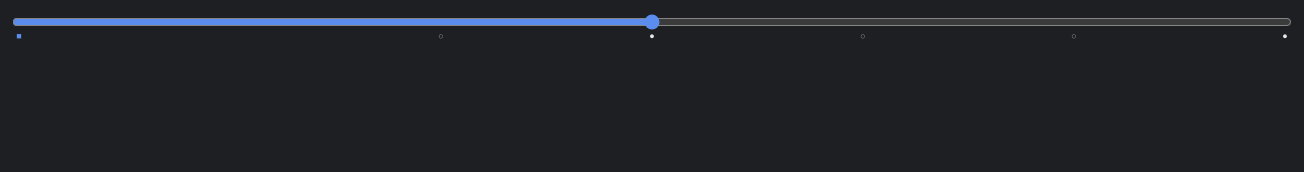
Scenario: KeySlider の印 › 差がない既定値キーは削除も移動もできない（I-072）
Right-click the 1st button "●" at [652, 36], box x1=647 y1=30 x2=657 y2=42
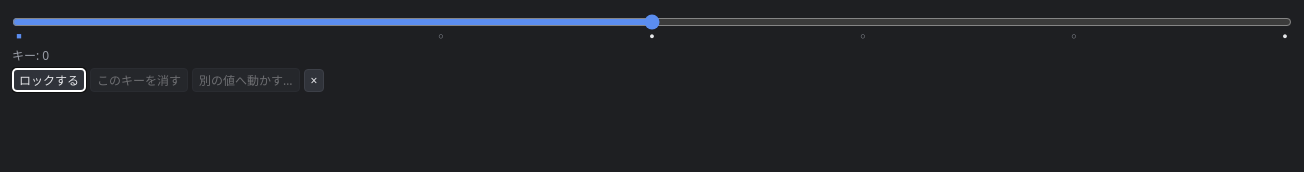
Now the button "このキーを消す" is disabled, box x1=90 y1=68 x2=188 y2=92
